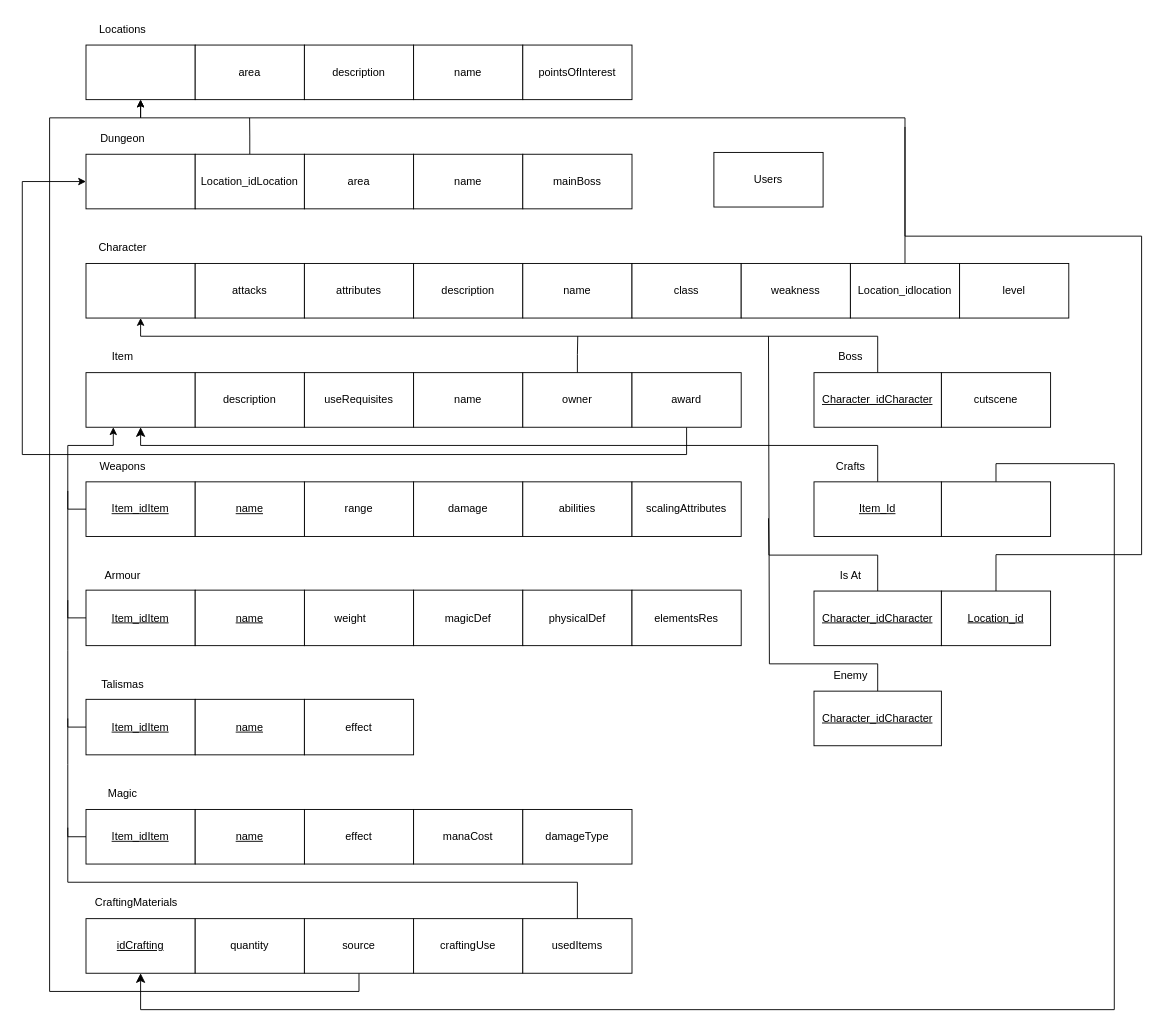
The diagram is 1158 pixels wide and 1035 high, and some of its shapes have lost their labels. The box of each missing label's shape, as (x1, y1, x2, y2) in pixels:
idCharacter: (85, 263, 195, 318)
idDungeon: (85, 153, 195, 209)
idItem: (85, 372, 195, 427)
idLocation: (85, 44, 195, 100)
Material_Id: (940, 481, 1051, 536)
